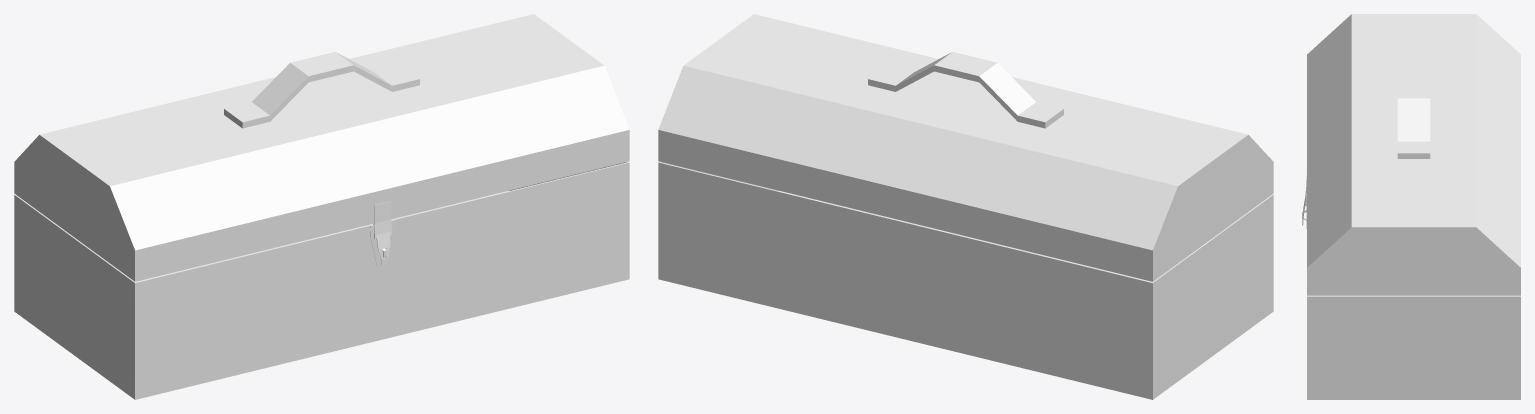
File: Tool_02_Tool_Box_Open_01.glb
The picture shows the model from 3 angles, left to right: view 1: azimuth 30°, elevation 25°; view 2: azimuth 150°, elevation 25°; view 3: azimuth 270°, elevation 25°; orthographic projection. The views are drawn at different scales.
Visible parts, largest first — view 1: Tool_02_Tool_Box_Open_Top_01, Tool_02_Tool_Box_Open_01; view 2: Tool_02_Tool_Box_Open_Top_01, Tool_02_Tool_Box_Open_01; view 3: Tool_02_Tool_Box_Open_Top_01, Tool_02_Tool_Box_Open_01.
Boxes of the visible parts, x1,y1,x2,y2 form: Tool_02_Tool_Box_Open_Top_01: (14, 14, 629, 281); Tool_02_Tool_Box_Open_01: (14, 161, 629, 399); Tool_02_Tool_Box_Open_Top_01: (658, 14, 1273, 281); Tool_02_Tool_Box_Open_01: (658, 161, 1273, 399); Tool_02_Tool_Box_Open_Top_01: (1302, 14, 1520, 295); Tool_02_Tool_Box_Open_01: (1302, 194, 1520, 399).
Size of the model in its own units: 0.67 by 0.2995 by 0.2904.
Materials: 1 (1 with a texture image).
